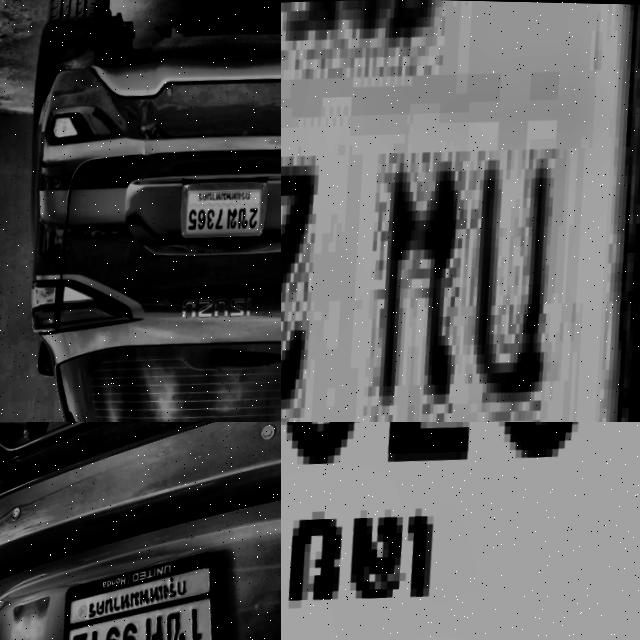license-plate: (281, 0, 640, 422), (281, 422, 640, 640), (60, 546, 240, 640), (178, 165, 280, 245)
